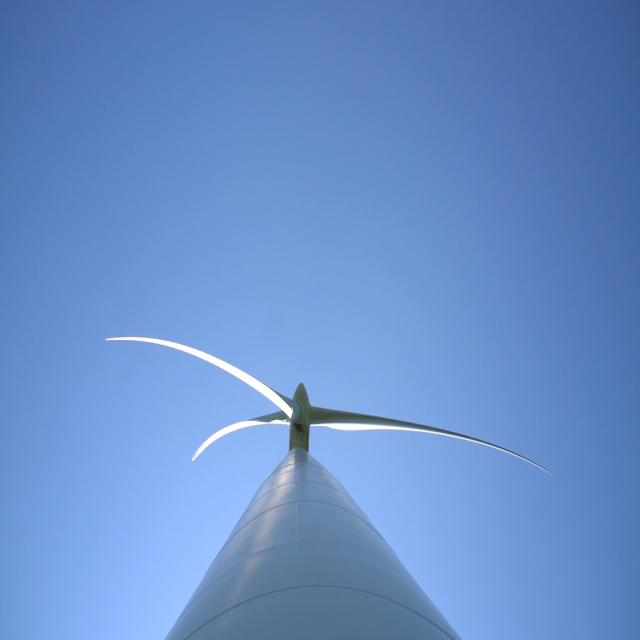blade 1: (112, 307, 236, 390)
blade 2: (334, 385, 540, 455)
blade 3: (168, 416, 274, 467)
